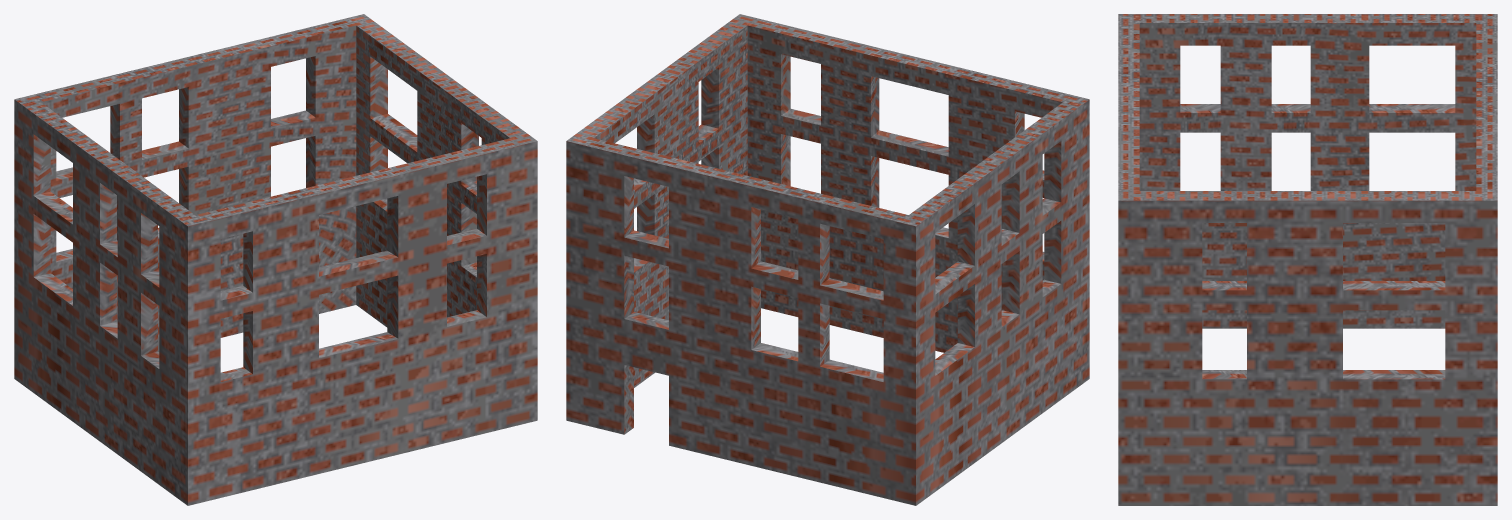
File: Verlaten_Pand.fbx
3 renders of one model, left to right at view 1: azimuth 30°, elevation 25°; view 2: azimuth 150°, elevation 25°; view 3: azimuth 270°, elevation 25°, orthographic. The views are drawn at different scales.
Parts seen in each view (by area): view 1: pCube3; view 2: pCube3; view 3: pCube3.
Part boxes in pixels (box(x1,y1,x2,y2)): pCube3: box(14, 14, 537, 505); pCube3: box(566, 14, 1089, 505); pCube3: box(1118, 14, 1497, 505).
Bounding box in the file's own units: 23.72 × 18.11 × 20.39.
Materials: 1 (1 with a texture image).
